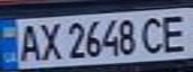2: (63, 18, 87, 60)
4: (100, 16, 121, 57)
6: (84, 17, 106, 59)
8: (115, 16, 142, 56)
A: (12, 20, 42, 63)
C: (136, 13, 172, 55)
E: (157, 11, 193, 54)
X: (33, 19, 63, 62)
